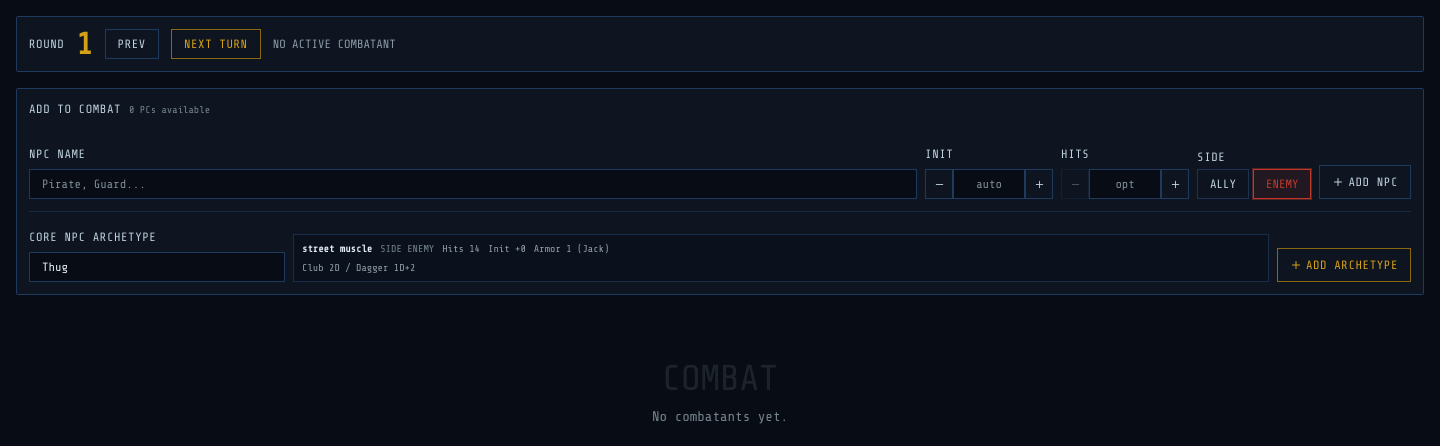
CombatTracker › adds an NPC to the selected side
Expected: the text "No combatants yet." is shown, [652, 409, 788, 424]
Click the button "ALLY" at (1223, 184), box [1197, 169, 1249, 199]
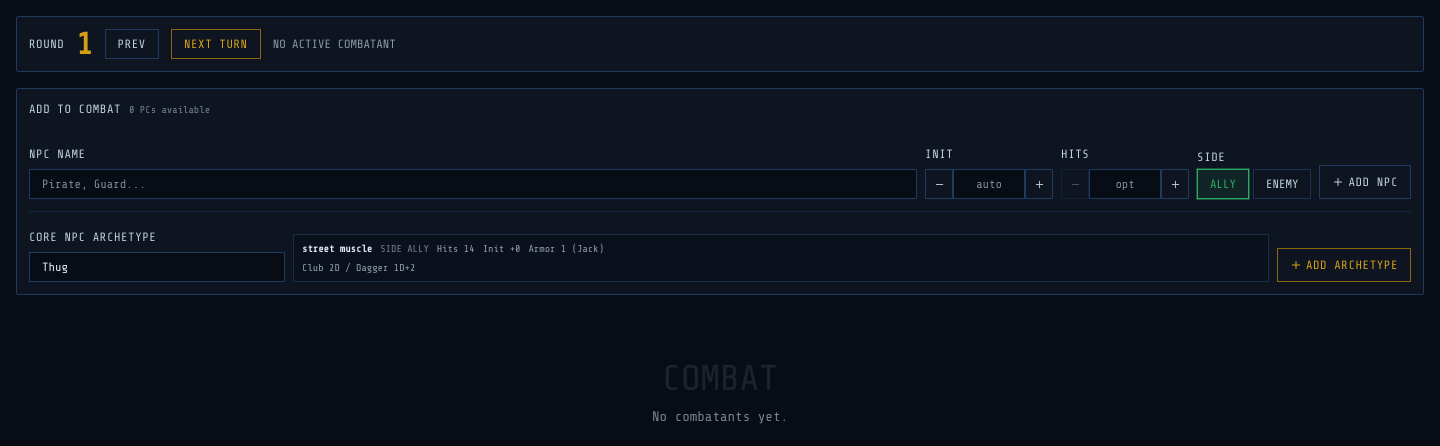
Expected: the button "ALLY" is pressed, [1197, 169, 1249, 199]
Expected: the button "ENEMY" is not pressed, [1253, 169, 1311, 199]
Type "Marine" into the field with placeholder "Pirate, Guard..." at (473, 184), box [29, 169, 917, 199]
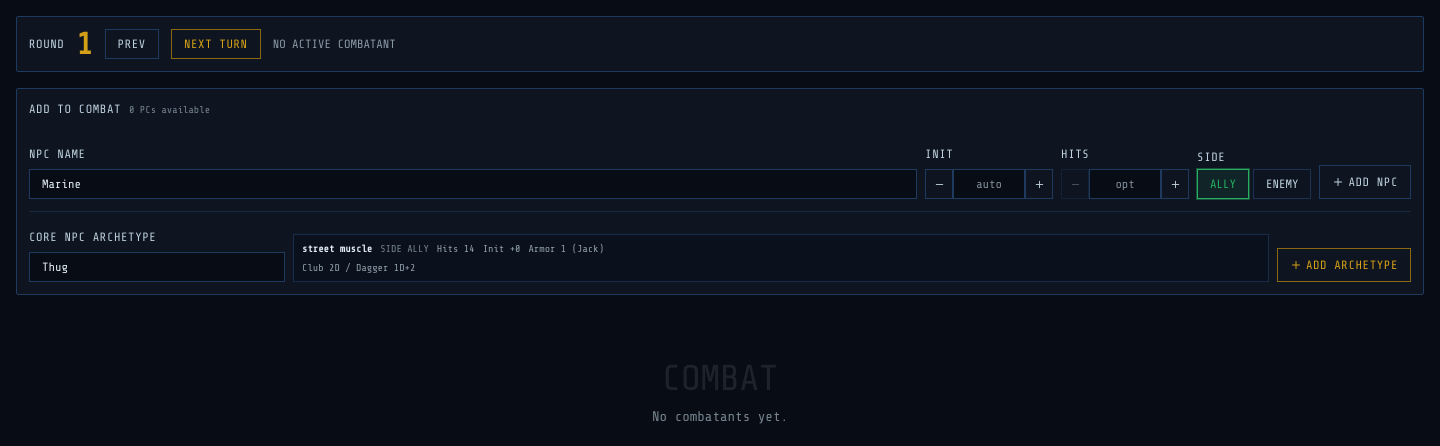
Type "4" into the field with placeholder "auto" at (989, 184), box [953, 169, 1025, 199]
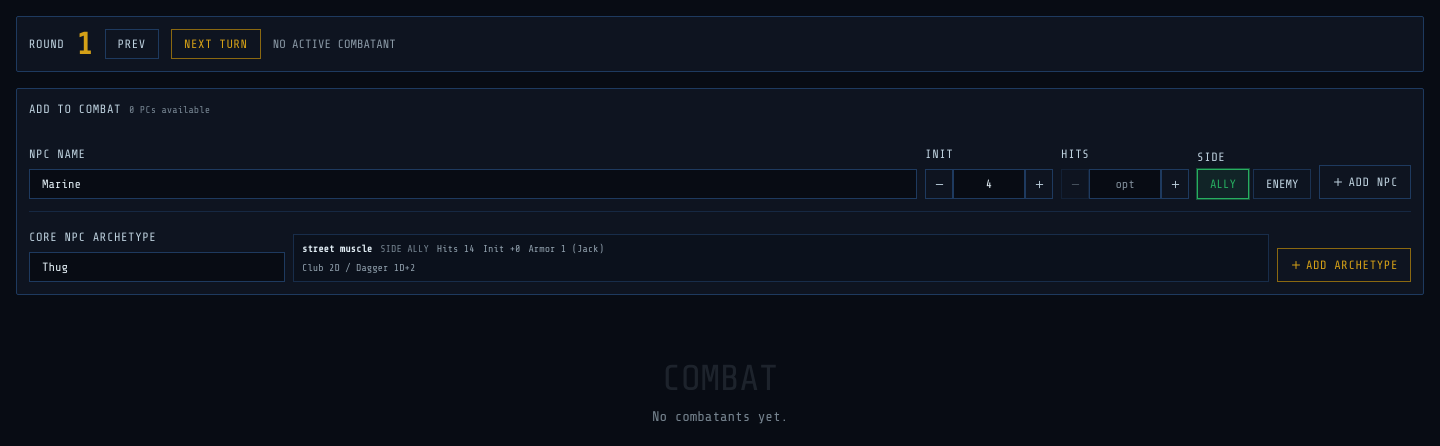
Click the button "ADD NPC" at (1365, 182), box [1319, 165, 1411, 199]
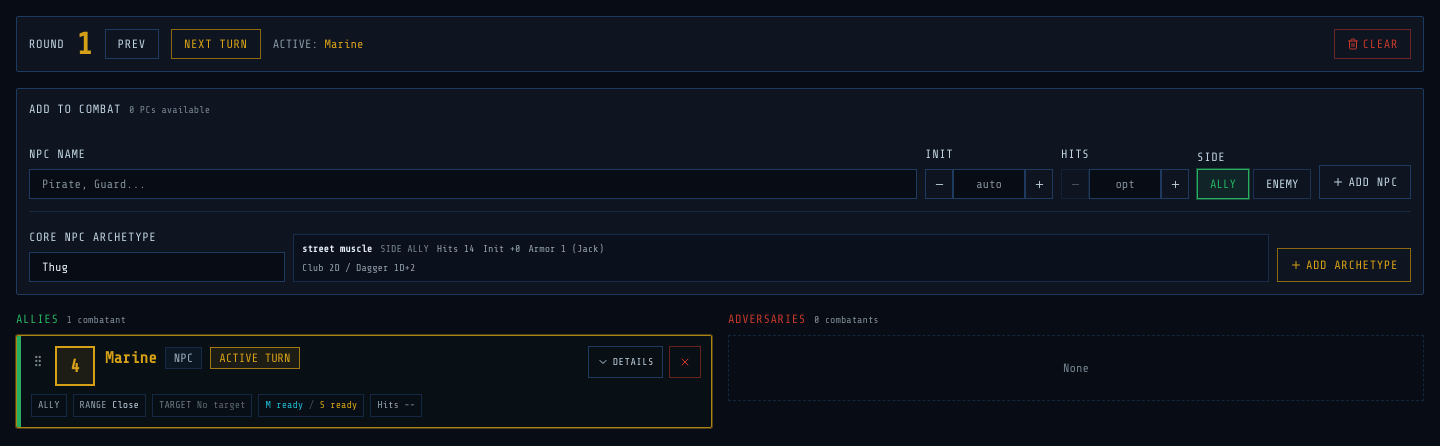
Expected: the heading "Marine" is shown, [105, 346, 157, 370]
